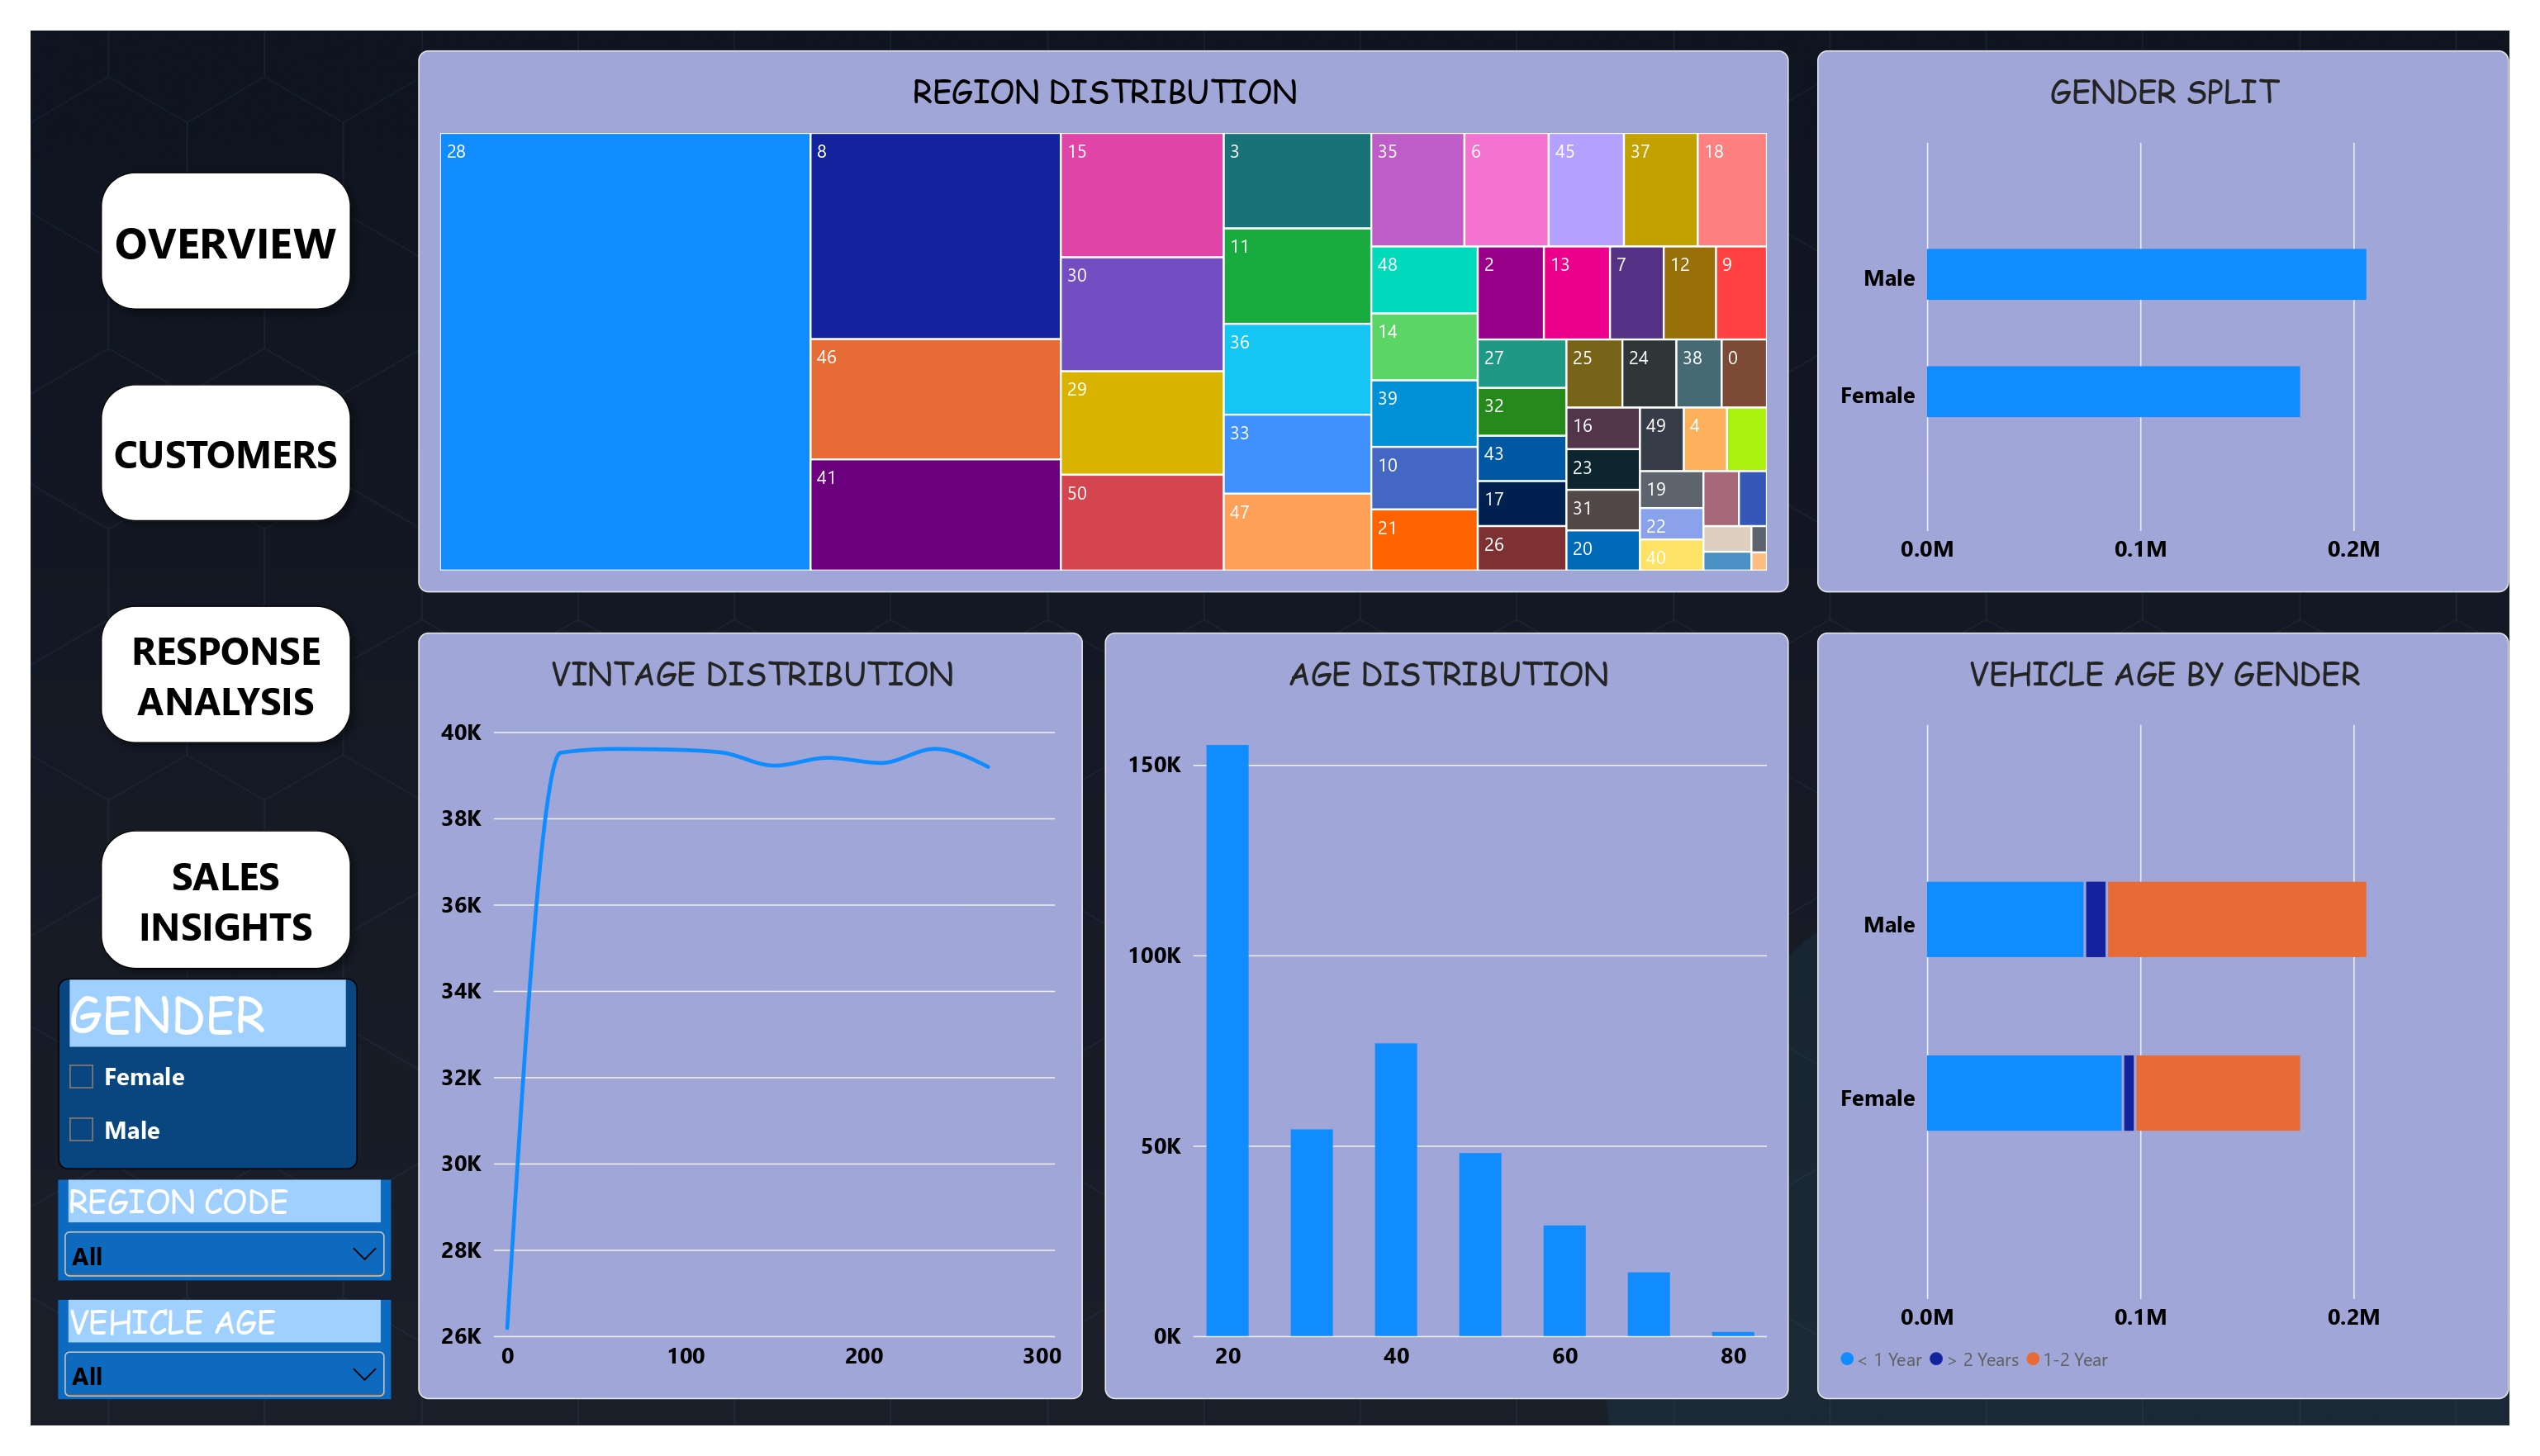

Layout of this report page (visuals, bound fields, positions):
{"tool":"powerbi","page":{"name":"CUSTOMERS","canvas":[1920,1080],"ordinal":1},"visuals":[{"type":"shape","box":[44.6,99.9,212.6,125.4],"z":0},{"type":"shape","box":[44.6,263.6,212.6,125.4],"z":1000},{"type":"shape","box":[44.6,435.8,212.6,125.4],"z":2000},{"type":"shape","box":[44.6,610.2,212.6,125.4],"z":3000},{"type":"slicer","fields":{"Values":["Sheet1.gender"]},"box":[21.5,733.7,231.7,148],"z":4000},{"type":"slicer","fields":{"Values":["Sheet1.region_code"]},"box":[21.5,890.3,257.4,77.2],"z":5000},{"type":"slicer","fields":{"Values":["Sheet1.vehicle_age"]},"box":[21.5,982.5,257.4,77.2],"z":6000},{"type":"clusteredColumnChart","title":"AGE DISTRIBUTION ","fields":{"Category":["Sheet1.age (bins)"],"Y":["CountNonNull(Sheet1.id)"]},"box":[832.4,465.5,529.9,594.2],"z":7000},{"type":"barChart","title":"GENDER SPLIT  ","fields":{"Category":["Sheet1.gender"],"Y":["CountNonNull(Sheet1.id)"]},"box":[1383.7,15,536.3,420.5],"z":8000},{"type":"treemap","title":"REGION DISTRIBUTION ","fields":{"Group":["Sheet1.region_code"],"Values":["CountNonNull(Sheet1.id)"]},"box":[300.3,15,1061.9,420.5],"z":9000},{"type":"barChart","title":"VEHICLE AGE BY GENDER ","fields":{"Category":["Sheet1.gender"],"Series":["Sheet1.vehicle_age"],"Y":["CountNonNull(Sheet1.id)"]},"box":[1383.7,465.5,536.3,594.2],"z":10000},{"type":"lineChart","title":"VINTAGE DISTRIBUTION","fields":{"Category":["Sheet1.vintage (bins)"],"Y":["CountNonNull(Sheet1.id)"]},"box":[300.3,465.5,514.9,594.2],"z":11000}]}

Visuals, with their boxes in screenshot pixels (x1, y1, x2, y2):
shape: BBox(58, 144, 335, 307)
shape: BBox(58, 357, 335, 520)
shape: BBox(58, 581, 335, 745)
shape: BBox(58, 809, 335, 973)
slicer - Sheet1.gender: BBox(28, 970, 330, 1164)
slicer - Sheet1.region_code: BBox(28, 1174, 364, 1275)
slicer - Sheet1.vehicle_age: BBox(28, 1295, 364, 1396)
"AGE DISTRIBUTION " clusteredColumnChart: BBox(1086, 620, 1778, 1396)
"GENDER SPLIT  " barChart: BBox(1805, 33, 2504, 581)
"REGION DISTRIBUTION " treemap: BBox(392, 33, 1777, 581)
"VEHICLE AGE BY GENDER " barChart: BBox(1805, 620, 2504, 1396)
"VINTAGE DISTRIBUTION" lineChart: BBox(392, 620, 1064, 1396)
